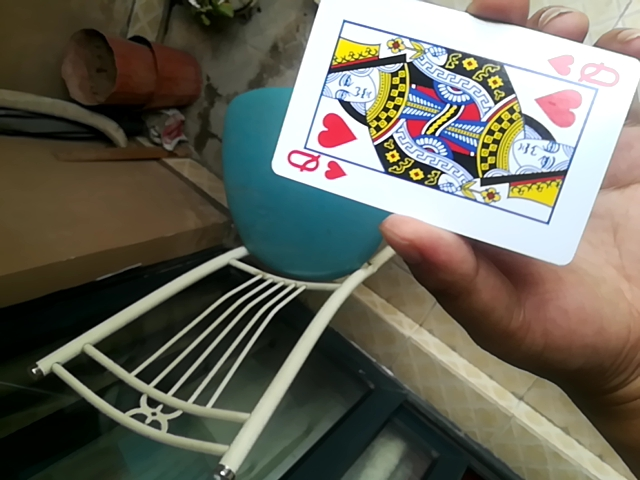hx q: (268, 3, 639, 271)
